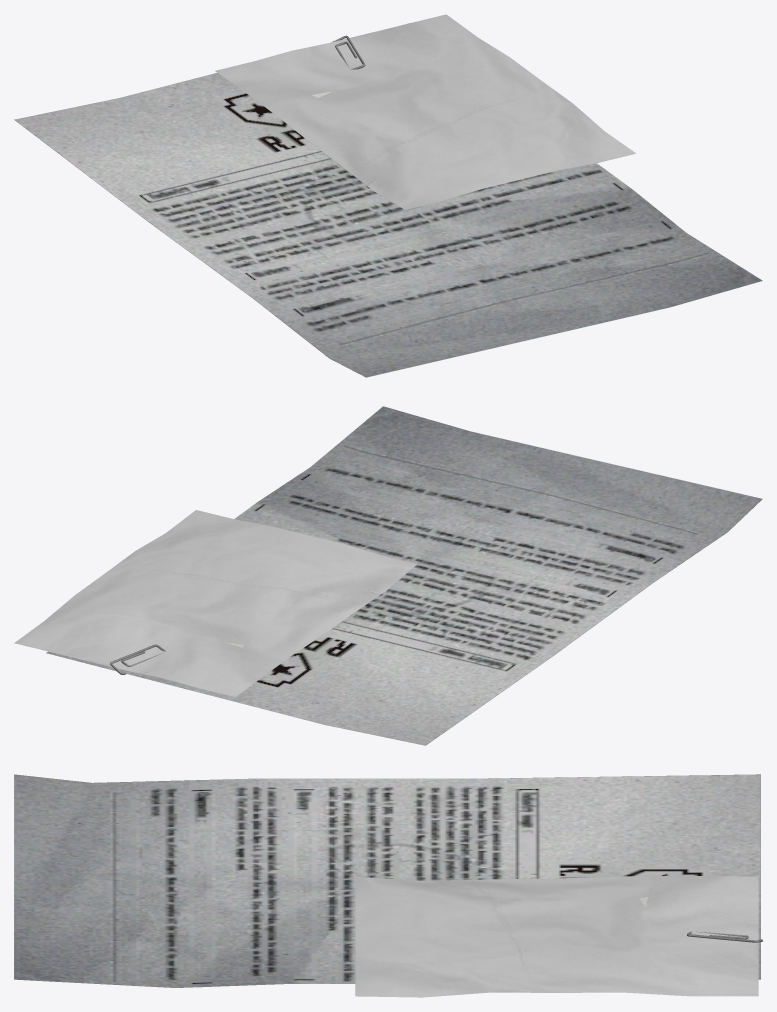
File: 014_rpdreport01a.fbx
3 renders of one model, top to bottom at view 1: azimuth 30°, elevation 25°; view 2: azimuth 150°, elevation 25°; view 3: azimuth 270°, elevation 25°, orthographic. The views are drawn at different scales.
Visible parts, largest first — view 1: LOD_1_Group_0_Sub_1__sm74_001_RPDDocument01A_A_Mat__Env_defa, LOD_1_Group_0_Sub_2__sm74_014_RPDReport01A_Mat__Glass_Expens; view 2: LOD_1_Group_0_Sub_1__sm74_001_RPDDocument01A_A_Mat__Env_defa, LOD_1_Group_0_Sub_2__sm74_014_RPDReport01A_Mat__Glass_Expens; view 3: LOD_1_Group_0_Sub_1__sm74_001_RPDDocument01A_A_Mat__Env_defa, LOD_1_Group_0_Sub_2__sm74_014_RPDReport01A_Mat__Glass_Expens, LOD_1_Group_0_Sub_3__sm74_014_RPDReport01A_Mat__Env_default.
Part boxes in pixels (bbox=[...]): LOD_1_Group_0_Sub_1__sm74_001_RPDDocument01A_A_Mat__Env_defa: bbox=[14, 23, 762, 377]; LOD_1_Group_0_Sub_2__sm74_014_RPDReport01A_Mat__Glass_Expens: bbox=[215, 14, 635, 209]; LOD_1_Group_0_Sub_1__sm74_001_RPDDocument01A_A_Mat__Env_defa: bbox=[46, 406, 762, 745]; LOD_1_Group_0_Sub_2__sm74_014_RPDReport01A_Mat__Glass_Expens: bbox=[14, 510, 417, 697]; LOD_1_Group_0_Sub_1__sm74_001_RPDDocument01A_A_Mat__Env_defa: bbox=[14, 774, 760, 987]; LOD_1_Group_0_Sub_2__sm74_014_RPDReport01A_Mat__Glass_Expens: bbox=[355, 876, 758, 997]; LOD_1_Group_0_Sub_3__sm74_014_RPDReport01A_Mat__Env_default: bbox=[640, 896, 762, 942].
Size of the model in its own units: 0.2473 by 0.00939 by 0.3509.
